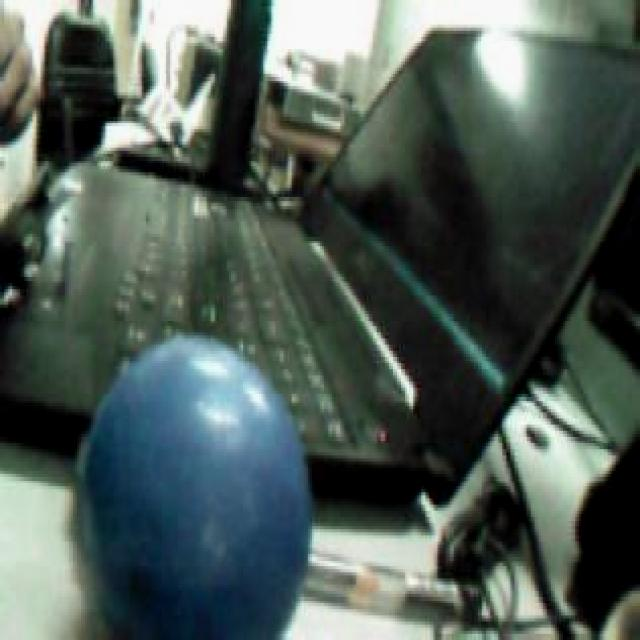BallPurple: (81, 335, 313, 640)
